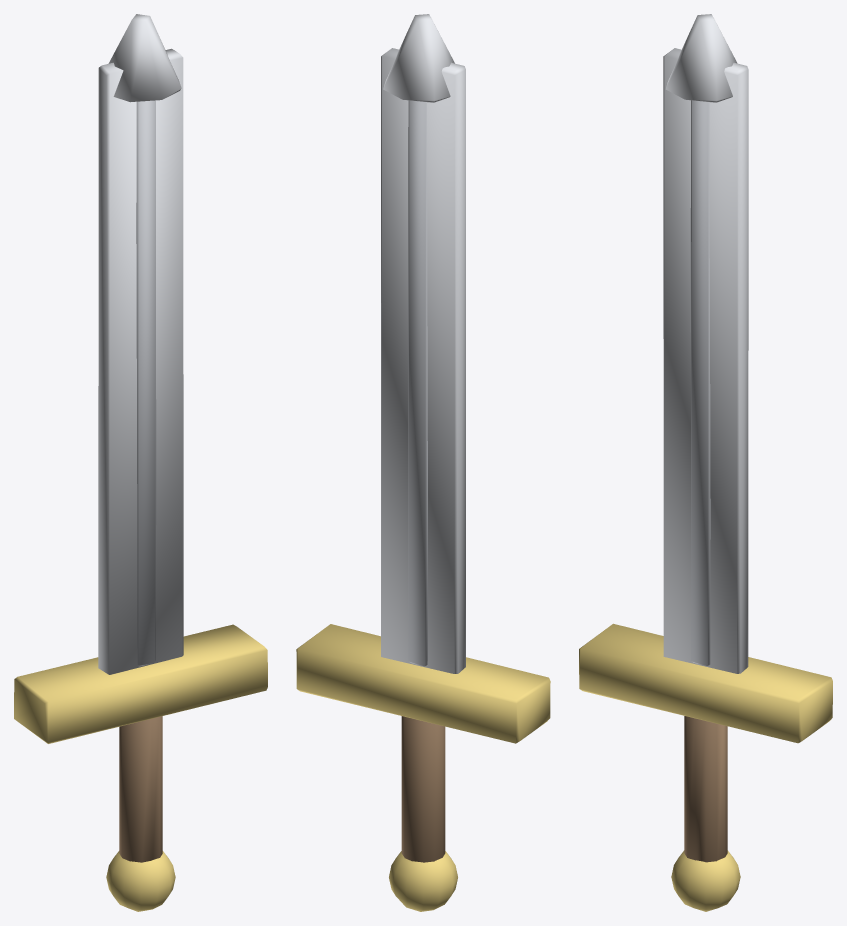
The model's file is item_sword.glb.
3 views of the same model, side by side, from view 1: azimuth 30°, elevation 25°; view 2: azimuth 150°, elevation 25°; view 3: azimuth 330°, elevation 25° (orthographic).
Visible parts, largest first — view 1: item_sword; view 2: item_sword; view 3: item_sword.
Boxes of the visible parts, box(x1,y1,x2,y2) form: item_sword: box(14, 14, 267, 911); item_sword: box(296, 14, 550, 911); item_sword: box(579, 14, 832, 911).
Size of the model in its own units: 0.26 by 0.9917 by 0.0846.
